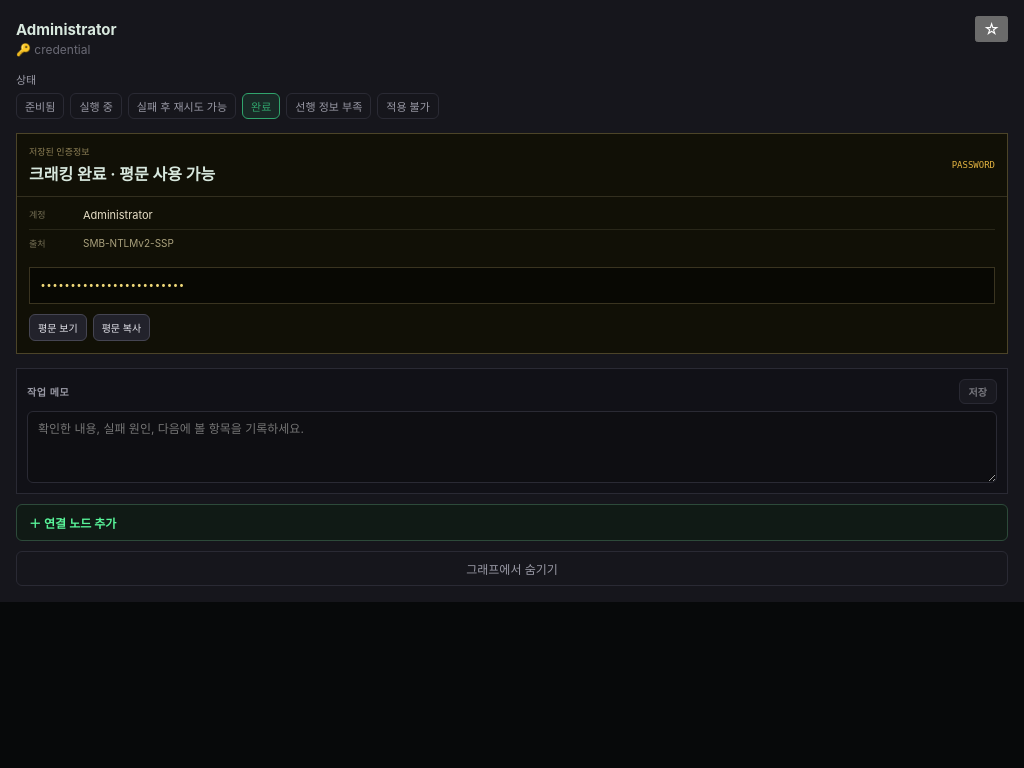
Test case: makes a cracked credential and its plaintext directly inspectable
Check: the text "크래킹 완료 · 평문 사용 가능" is shown, box [29,161,215,185]
Click the button "평문 보기": (58, 328) [29,314,87,341]
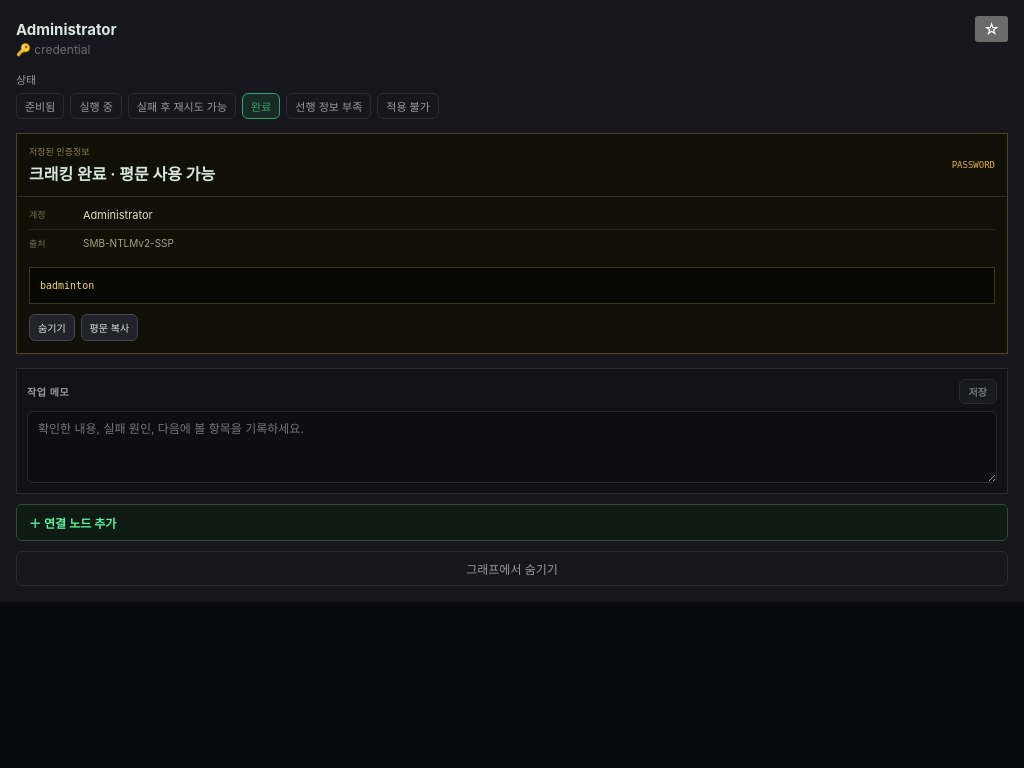
Check: the text "SMB-NTLMv2-SSP" is shown, box [83,237,174,249]
Check: the text "badminton" is shown, box [29,267,995,304]
